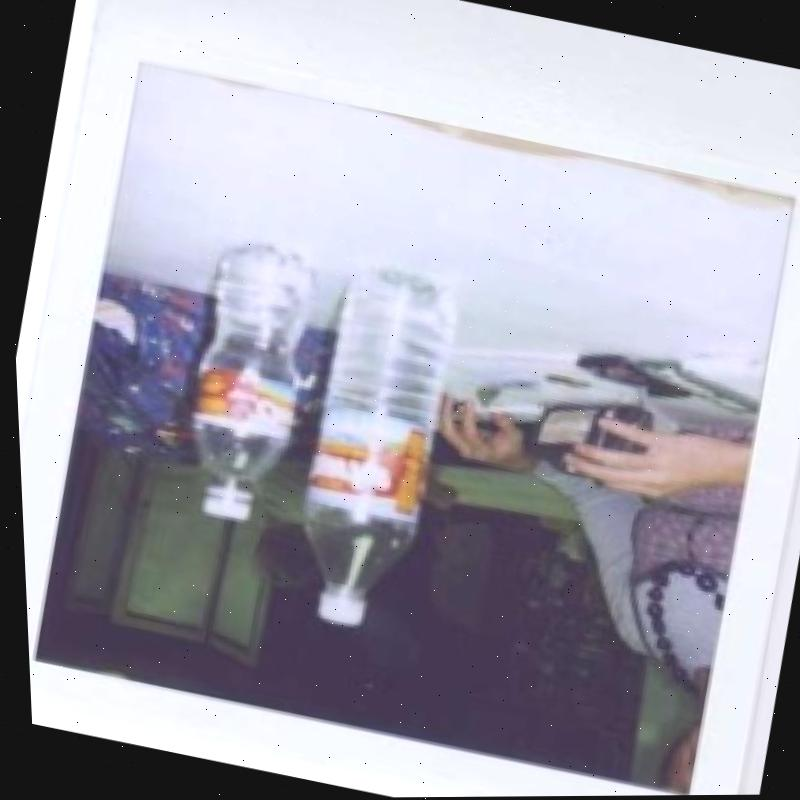botella: (266, 253, 481, 640), (160, 235, 327, 536)
